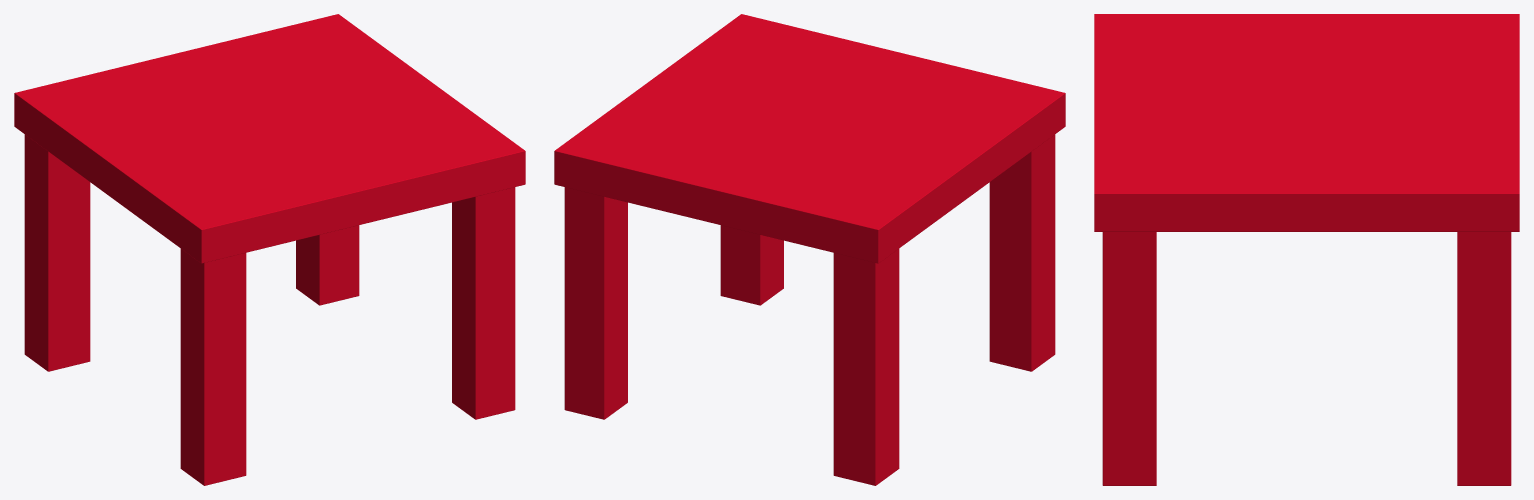
File: table.fbx
The picture shows the model from 3 angles, left to right: view 1: azimuth 30°, elevation 25°; view 2: azimuth 150°, elevation 25°; view 3: azimuth 270°, elevation 25°; orthographic projection. The views are drawn at different scales.
Visible parts, largest first — view 1: Cube; view 2: Cube; view 3: Cube.
Boxes of the visible parts, x1=… form: Cube: x1=14, y1=14, x2=525, y2=485; Cube: x1=554, y1=14, x2=1065, y2=485; Cube: x1=1094, y1=14, x2=1519, y2=485.
Bounding box in the file's own units: 50 × 38.41 × 50.
